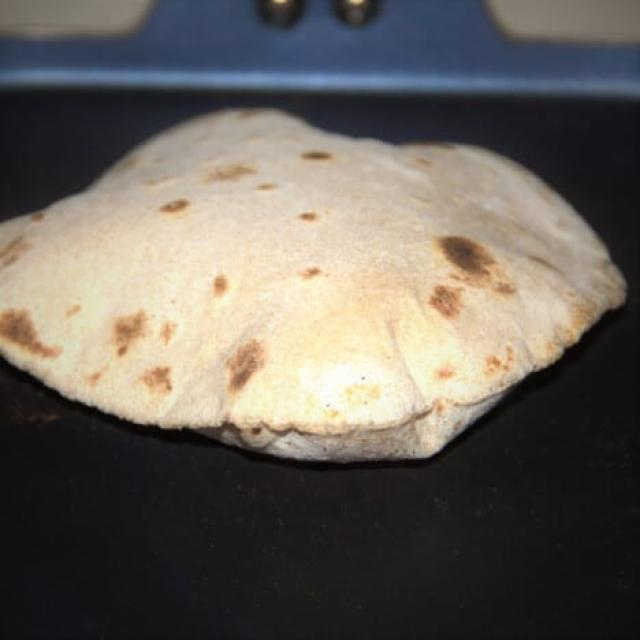ROTI: (0, 107, 625, 440)
